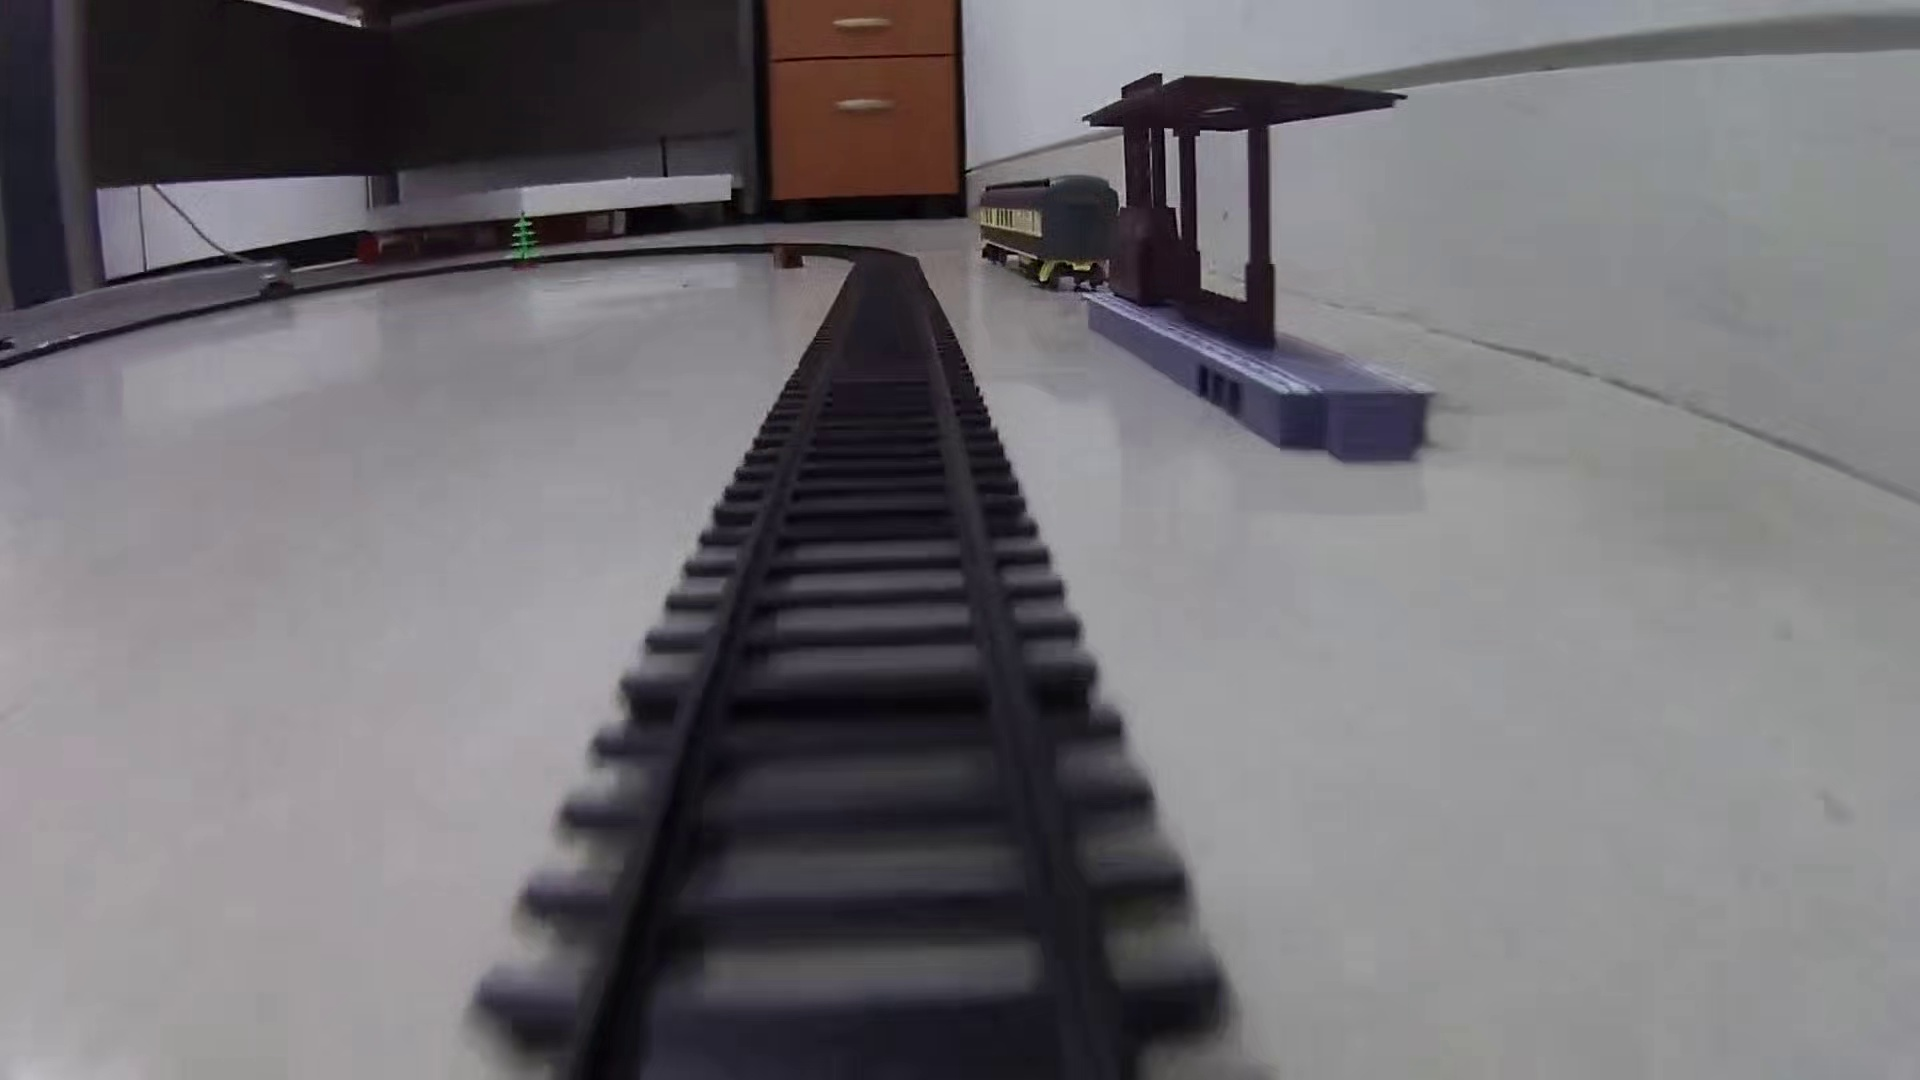box: (773, 238, 804, 274)
tree: (509, 210, 543, 274)
